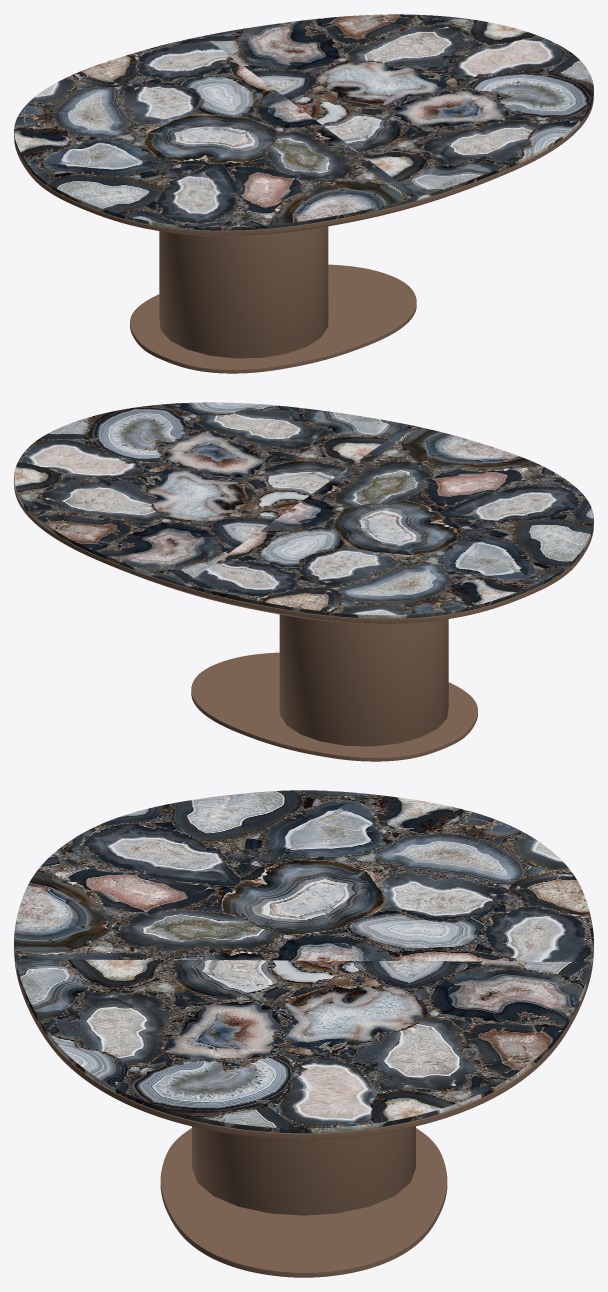
File: SBH_EGGSIGHTMENT_BIG.glb
3 renders of one model, top to bottom at view 1: azimuth 30°, elevation 25°; view 2: azimuth 150°, elevation 25°; view 3: azimuth 270°, elevation 25°, orthographic. The views are drawn at different scales.
Visible parts, largest first — view 1: EGGSIGHTMENT - BIG; view 2: EGGSIGHTMENT - BIG; view 3: EGGSIGHTMENT - BIG.
Part boxes in pixels (left/top/right/bottom): EGGSIGHTMENT - BIG: left=14, top=14, right=593, bottom=373; EGGSIGHTMENT - BIG: left=14, top=402, right=593, bottom=761; EGGSIGHTMENT - BIG: left=14, top=790, right=593, bottom=1277.
Bounding box in the file's own units: 0.9066 × 0.3198 × 0.6563.
Materials: 2 (1 with a texture image).
